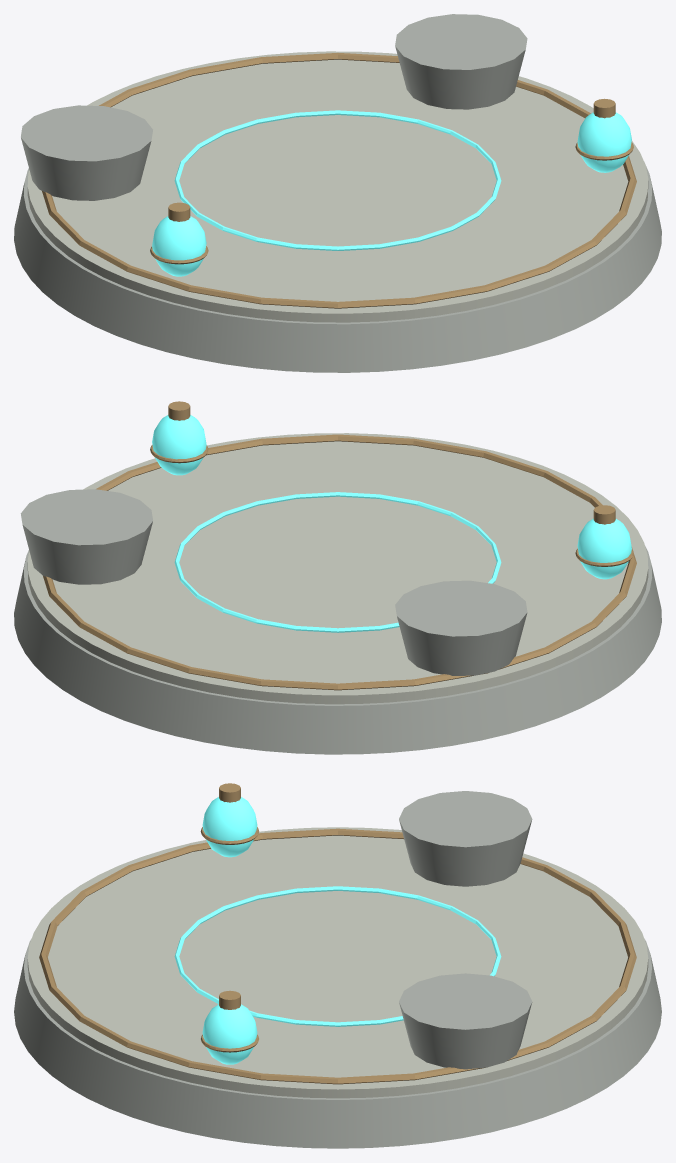
Rendered from socle_atelier.glb.
3 renders of one model, top to bottom at view 1: azimuth 30°, elevation 25°; view 2: azimuth 150°, elevation 25°; view 3: azimuth 270°, elevation 25°, orthographic.
Parts seen in each view (by area): view 1: pierre_claire, pierre, cuivre, cristal; view 2: pierre_claire, pierre, cuivre, cristal; view 3: pierre_claire, pierre, cuivre, cristal.
Boxes of the visible parts, x1,y1,x2,y2 form: pierre_claire: (27,51,648,322); pierre: (14,14,661,372); cuivre: (42,53,636,308); cristal: (152,110,631,276); pierre_claire: (27,433,648,704); pierre: (14,489,661,754); cuivre: (43,401,636,690); cristal: (152,415,631,632); pierre_claire: (27,827,648,1098); pierre: (14,791,661,1148); cuivre: (39,783,636,1084); cristal: (174,797,501,1064).
Size of the model in its own units: 3.3 by 0.675 by 3.3.
